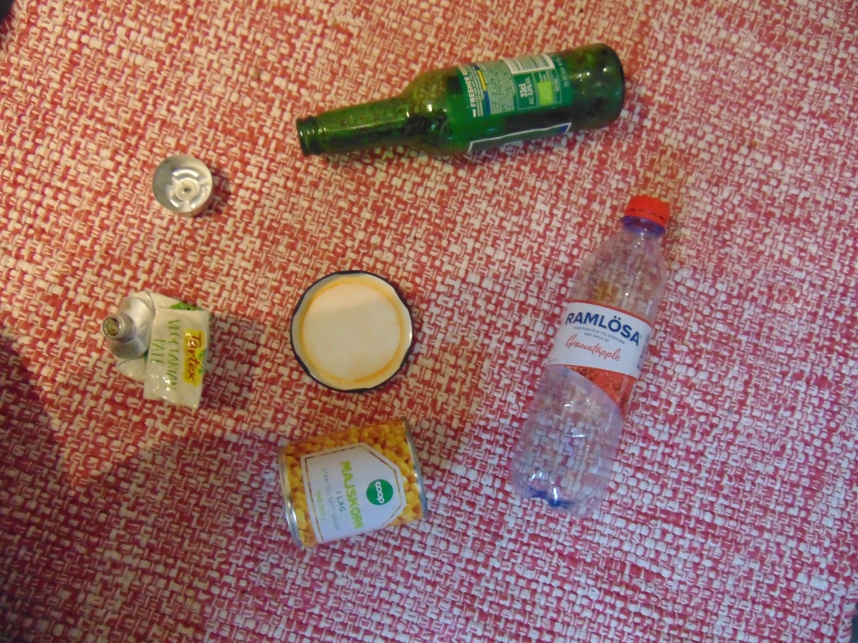glass_bottle: (295, 43, 627, 156)
metal: (289, 270, 417, 395), (101, 289, 212, 411), (151, 155, 215, 216)
metal_can: (278, 417, 430, 549)
plastic_bottle: (510, 195, 672, 520)
